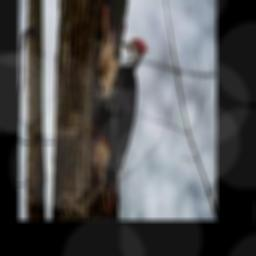Woodpecker: (96, 38, 147, 208)
